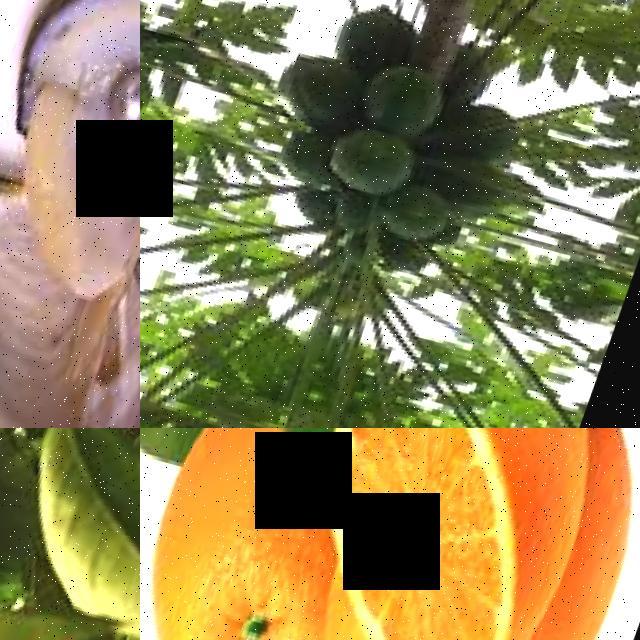orange: (281, 428, 638, 640), (140, 491, 357, 640)
oysters: (0, 0, 140, 343)
pawpaw: (270, 47, 379, 137), (356, 53, 462, 141), (323, 121, 431, 202), (332, 0, 427, 82), (383, 179, 463, 246)
